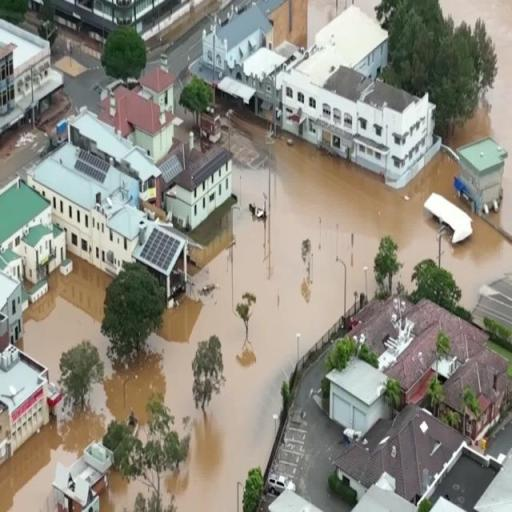flood: (0, 136, 458, 512), (23, 254, 111, 381), (23, 257, 111, 379), (442, 218, 512, 308), (146, 0, 218, 49), (101, 473, 142, 512), (1, 138, 18, 188)
house: (271, 13, 427, 175), (35, 143, 147, 278), (362, 402, 467, 505), (440, 312, 510, 446), (2, 16, 54, 154), (164, 138, 236, 232), (381, 308, 444, 414), (0, 182, 58, 292), (116, 78, 180, 159), (1, 353, 47, 462), (441, 442, 512, 511), (329, 362, 391, 436), (455, 134, 508, 212), (206, 10, 266, 73), (51, 447, 111, 510), (134, 64, 180, 124)
